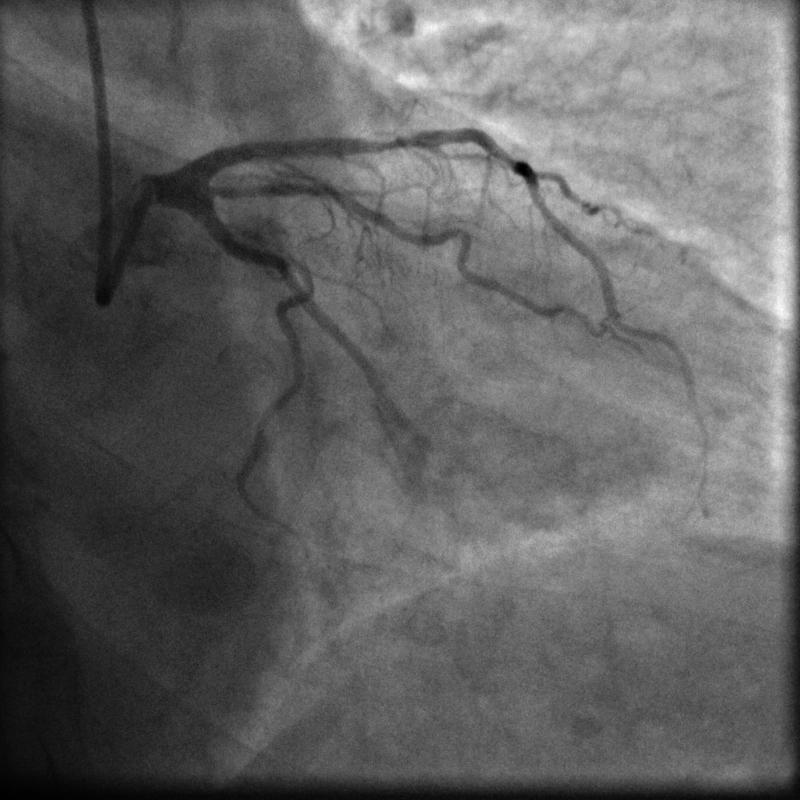Stenosis: (352, 131, 419, 150)
